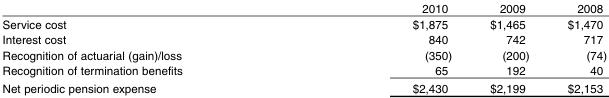table: (1, 1, 606, 94)
table column: (1, 1, 296, 94), (296, 1, 470, 94), (470, 1, 547, 94), (547, 1, 606, 94)
table column header: (1, 1, 606, 15)
table row: (1, 62, 606, 79), (1, 15, 606, 31), (1, 46, 606, 62), (1, 31, 606, 46), (1, 79, 606, 94), (1, 1, 606, 15)
